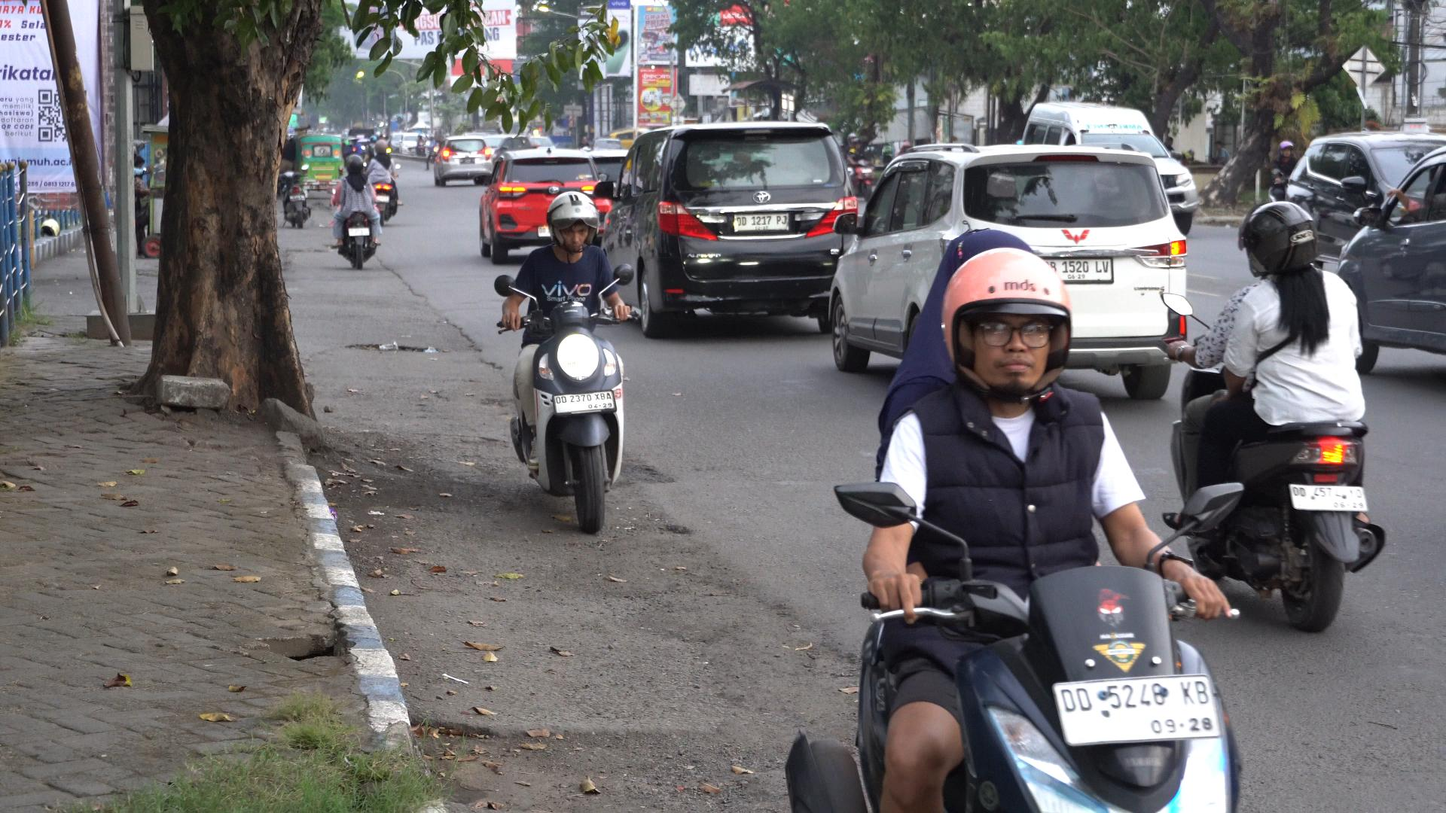number-plate: (1054, 676, 1224, 747), (552, 394, 618, 412)
